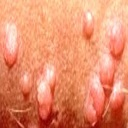Wart: (29, 72, 128, 122), (5, 21, 18, 60)
